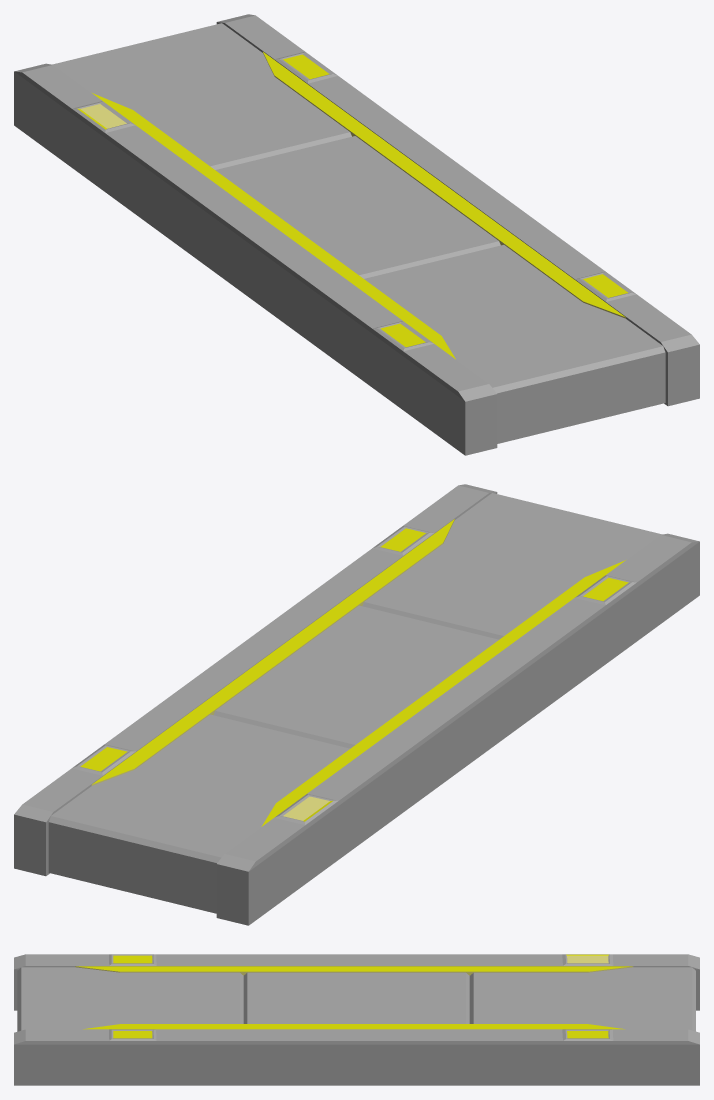
The model's file is Yellow_Platform.fbx.
3 views of the same model, one above another, from view 1: azimuth 30°, elevation 25°; view 2: azimuth 150°, elevation 25°; view 3: azimuth 270°, elevation 25° (orthographic). The views are drawn at different scales.
Visible parts, largest first — view 1: pCube207; view 2: pCube207; view 3: pCube207.
Part boxes in pixels (<box>): pCube207: <box>14,14,699,455</box>; pCube207: <box>14,484,699,925</box>; pCube207: <box>14,954,699,1085</box>.
Bounding box in the file's own units: 5.48 × 1.33 × 18.26.
